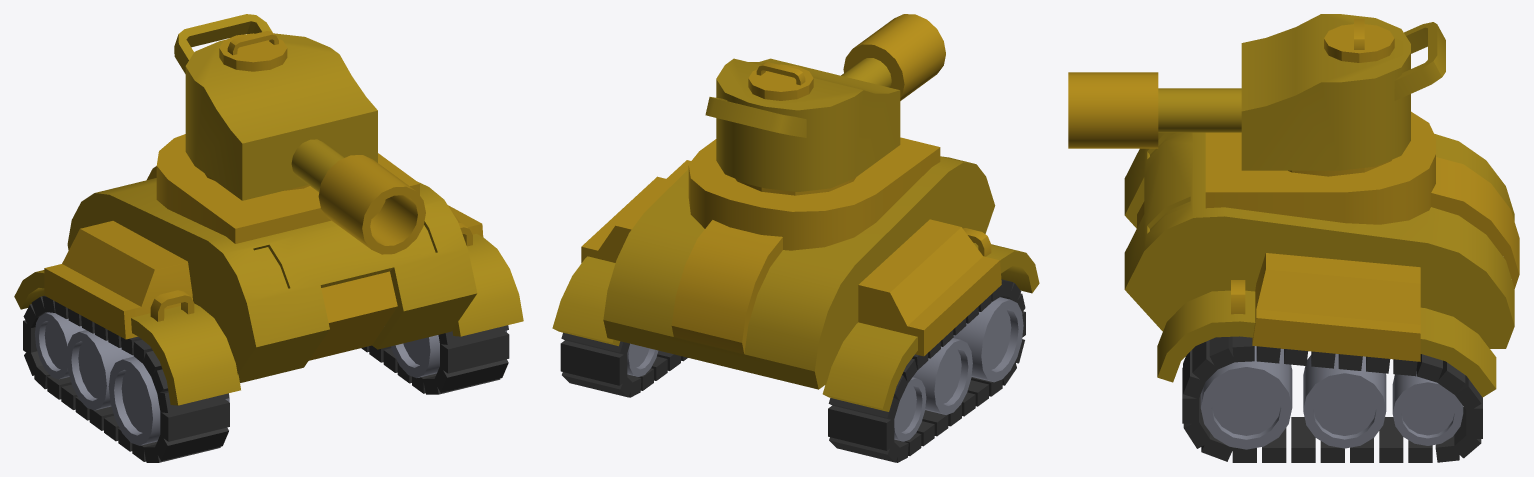
Rendered from Tank.glb.
The picture shows the model from 3 angles, left to right: view 1: azimuth 30°, elevation 25°; view 2: azimuth 150°, elevation 25°; view 3: azimuth 270°, elevation 25°; orthographic projection. The views are drawn at different scales.
Parts seen in each view (by area): view 1: Tank; view 2: Tank; view 3: Tank.
Part boxes in pixels (x1=…): Tank: x1=14, y1=14, x2=523, y2=462; Tank: x1=552, y1=14, x2=1039, y2=462; Tank: x1=1068, y1=14, x2=1519, y2=462.
Size of the model in its own units: 2.37 by 2.14 by 2.5.
